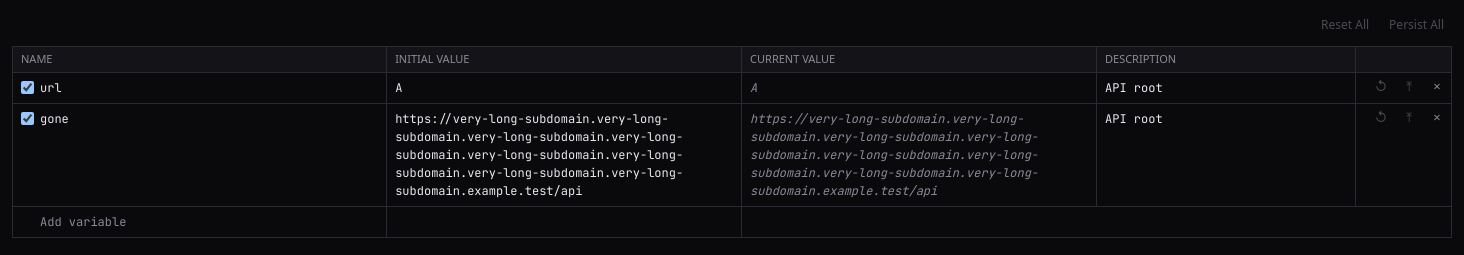
VariableTable › adds, renames and removes rows, then saves the whole table
The image size is (1464, 255).
Clear the field named "Name of url": (181, 88) [36, 72, 326, 102]
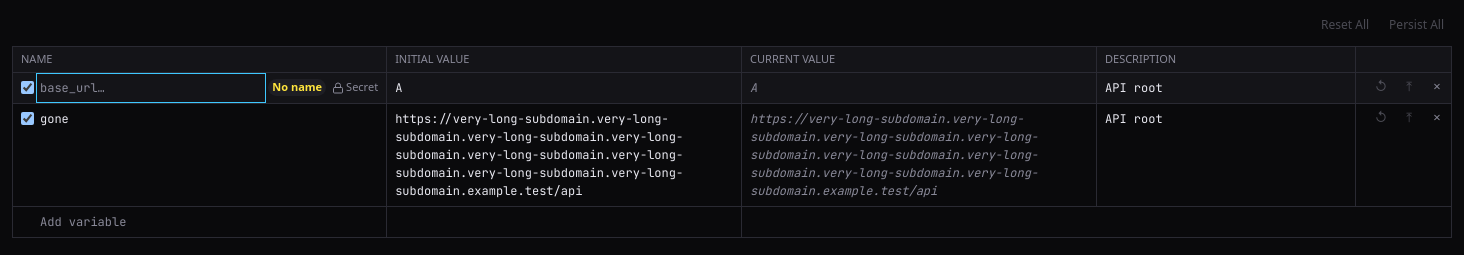
In the field named "Name of url": (151, 88) [36, 72, 266, 102], type "base_url"
In the text box named "Current value of base_url": (919, 88) [742, 72, 1096, 102], type "B"
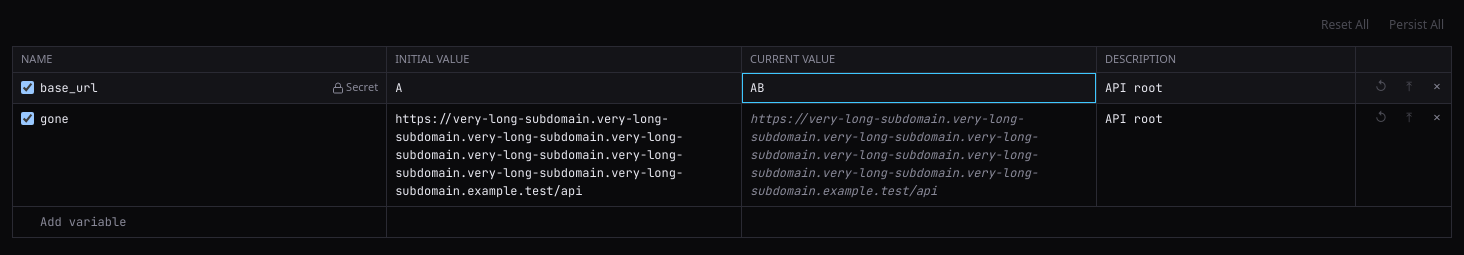
Click the button named "Remove gone": (1437, 118) [1423, 104, 1451, 132]
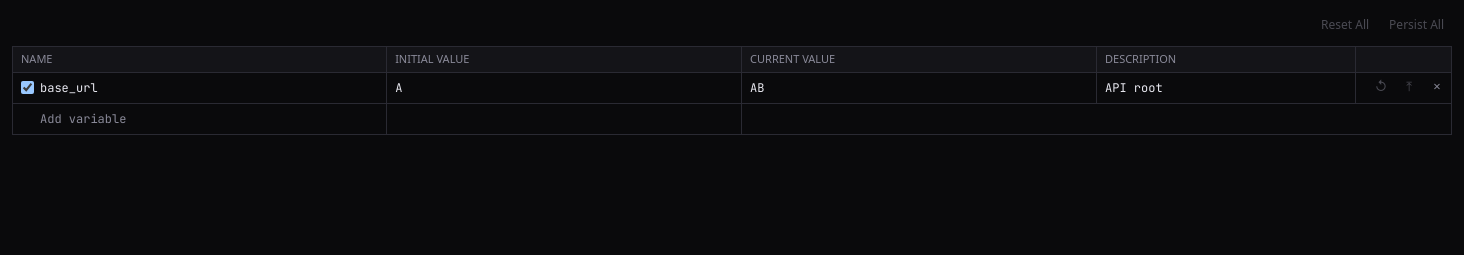
In the field labelled "Add variable": (200, 118) [13, 104, 386, 134], type "user"
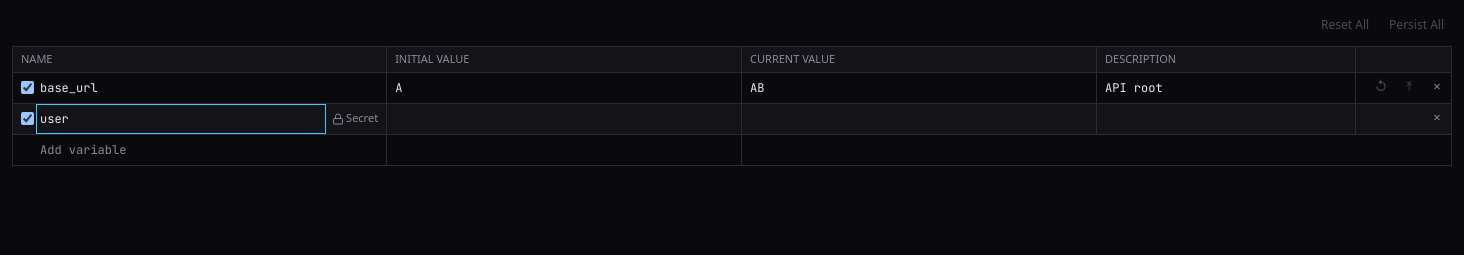
Expected: the field labelled "Add variable" is empty, [13, 134, 386, 164]
In the text box named "Initial value of user": (564, 118) [387, 104, 741, 134], type "ana"
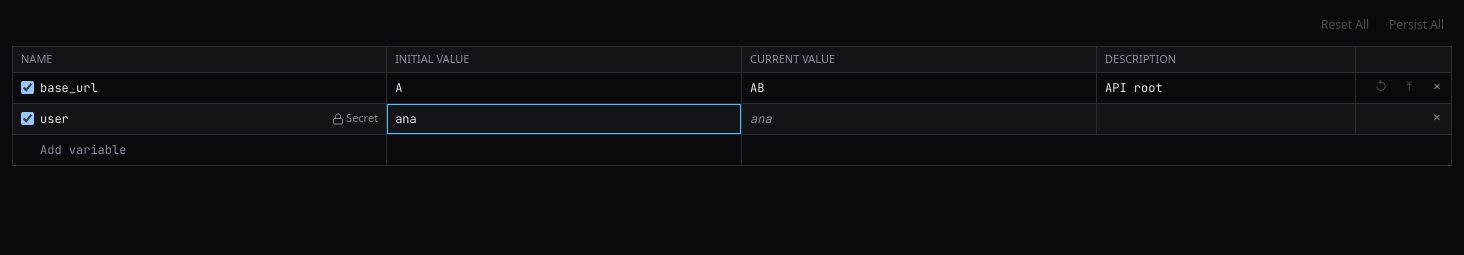
Click the checkbox named "Enable user": (28, 118) [21, 112, 34, 125]
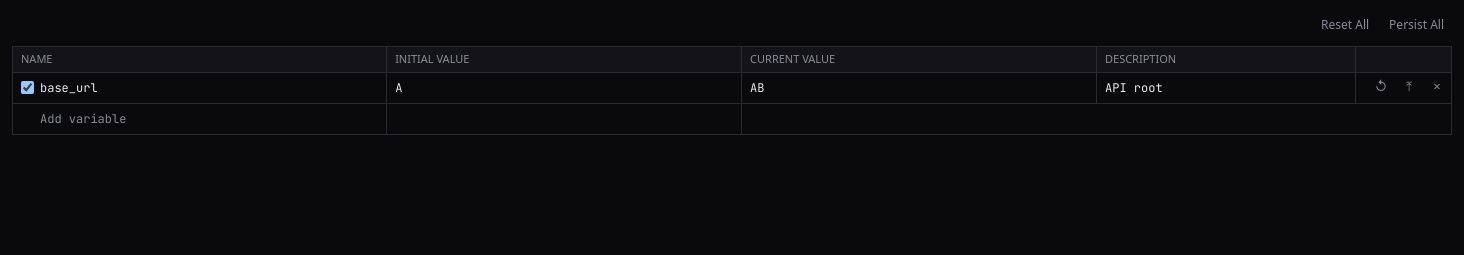
Result: the field named "Name of base_url" is shown at [36, 72, 326, 102]
Result: the number of rows is 3 at [12, 46, 1452, 72]; [12, 72, 1452, 103]; [12, 103, 1452, 134]
